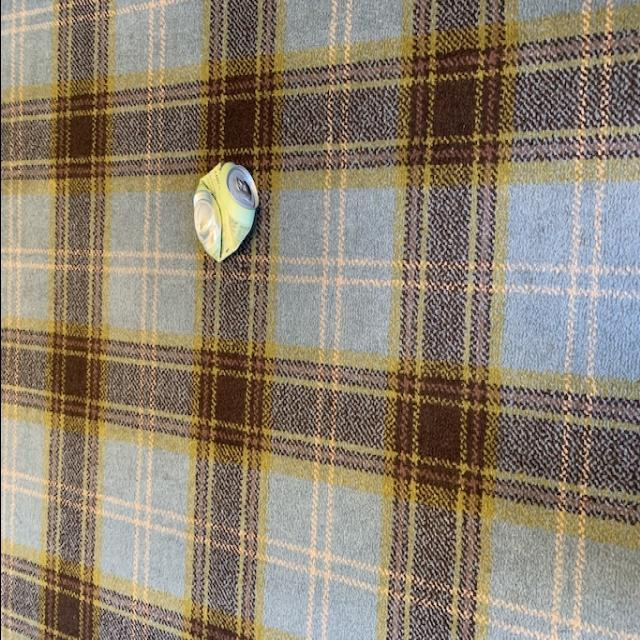Aluminum Can: (190, 158, 260, 262)
